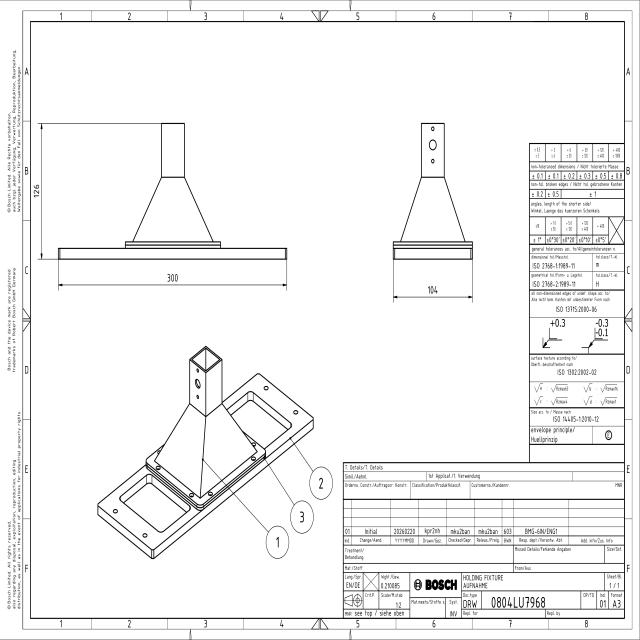dimension: (166, 271, 179, 284), (32, 182, 40, 200), (426, 284, 439, 295)
